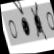correct: (20, 16, 31, 37)
not correct: (28, 1, 49, 43)
